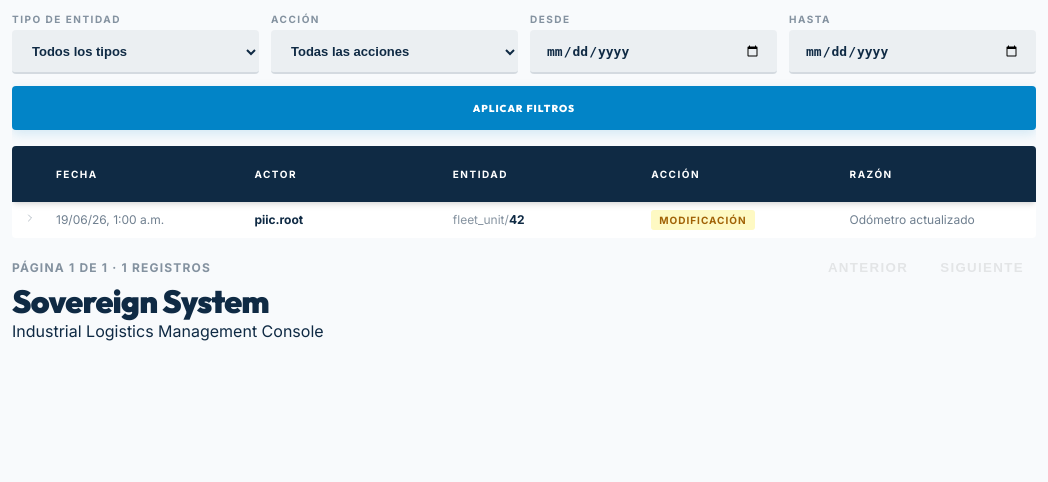
Test case: AuditLogView › R4-C — filtros, paginación, toggle de diff y estado vacío de snapshot › alternar "Solo diferencias" filtra el diff a solo las llaves que cambiaron
The image size is (1048, 482).
Click the row with test id "audit-row-audit-uuid-003" at (524, 220), box x1=12 y1=202 x2=1036 y2=238
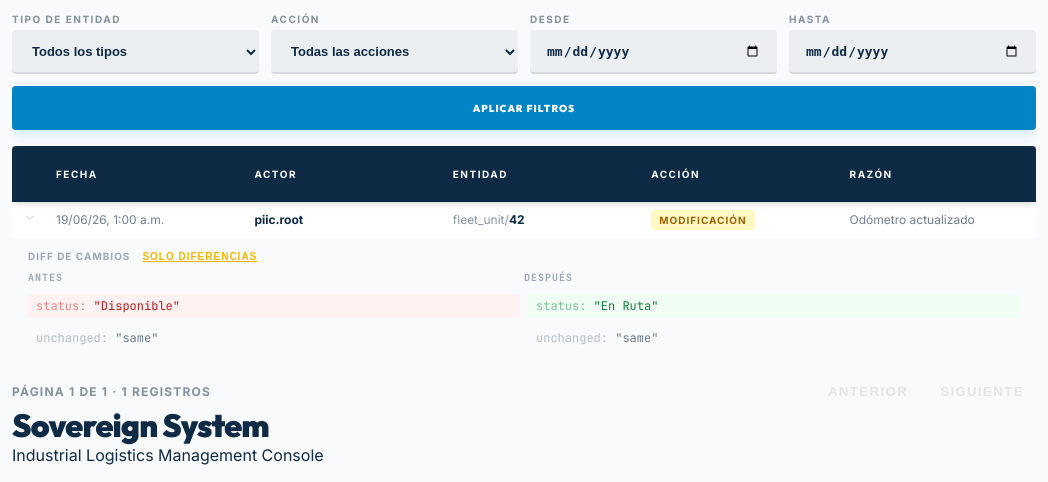
Expected: the 1st text "unchanged:" is shown, x1=36 y1=330 x2=115 y2=346
Click the button with test id "toggle-only-diffs" at (200, 256), box x1=142 y1=250 x2=257 y2=262
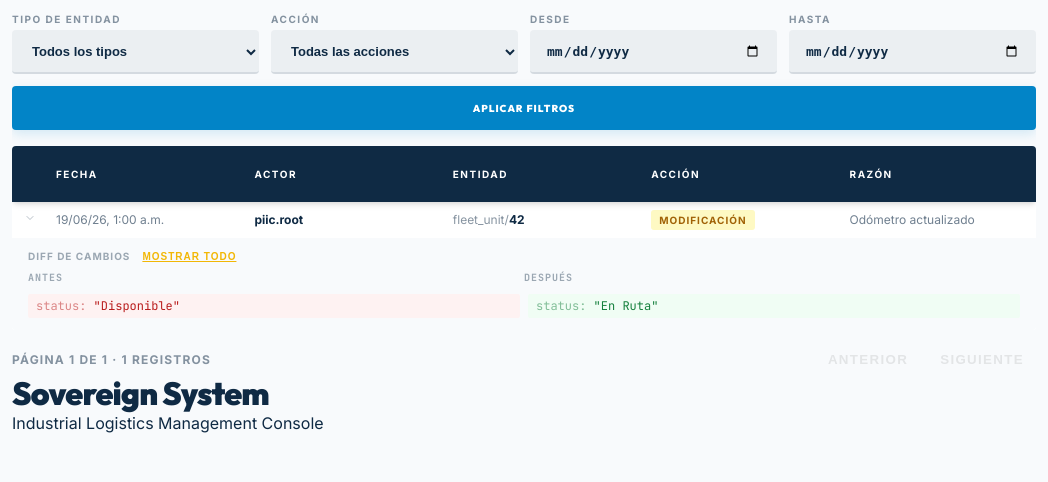
Expected: the button "Mostrar todo" is shown, x1=142 y1=250 x2=236 y2=262
Expected: the text "unchanged:" is not shown
